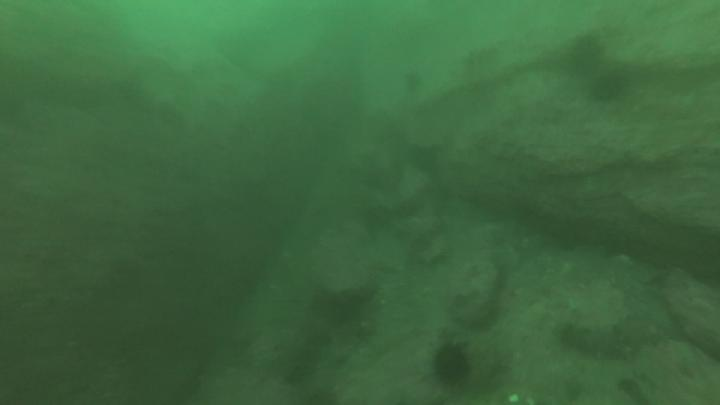echinus: (428, 339, 475, 391), (565, 36, 607, 81), (588, 69, 631, 107), (400, 66, 425, 100)
holothurian: (558, 316, 640, 365), (461, 42, 505, 73)
